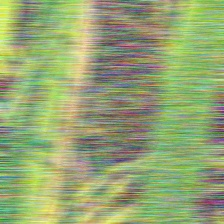Leaf_Blast: (51, 4, 97, 203)
